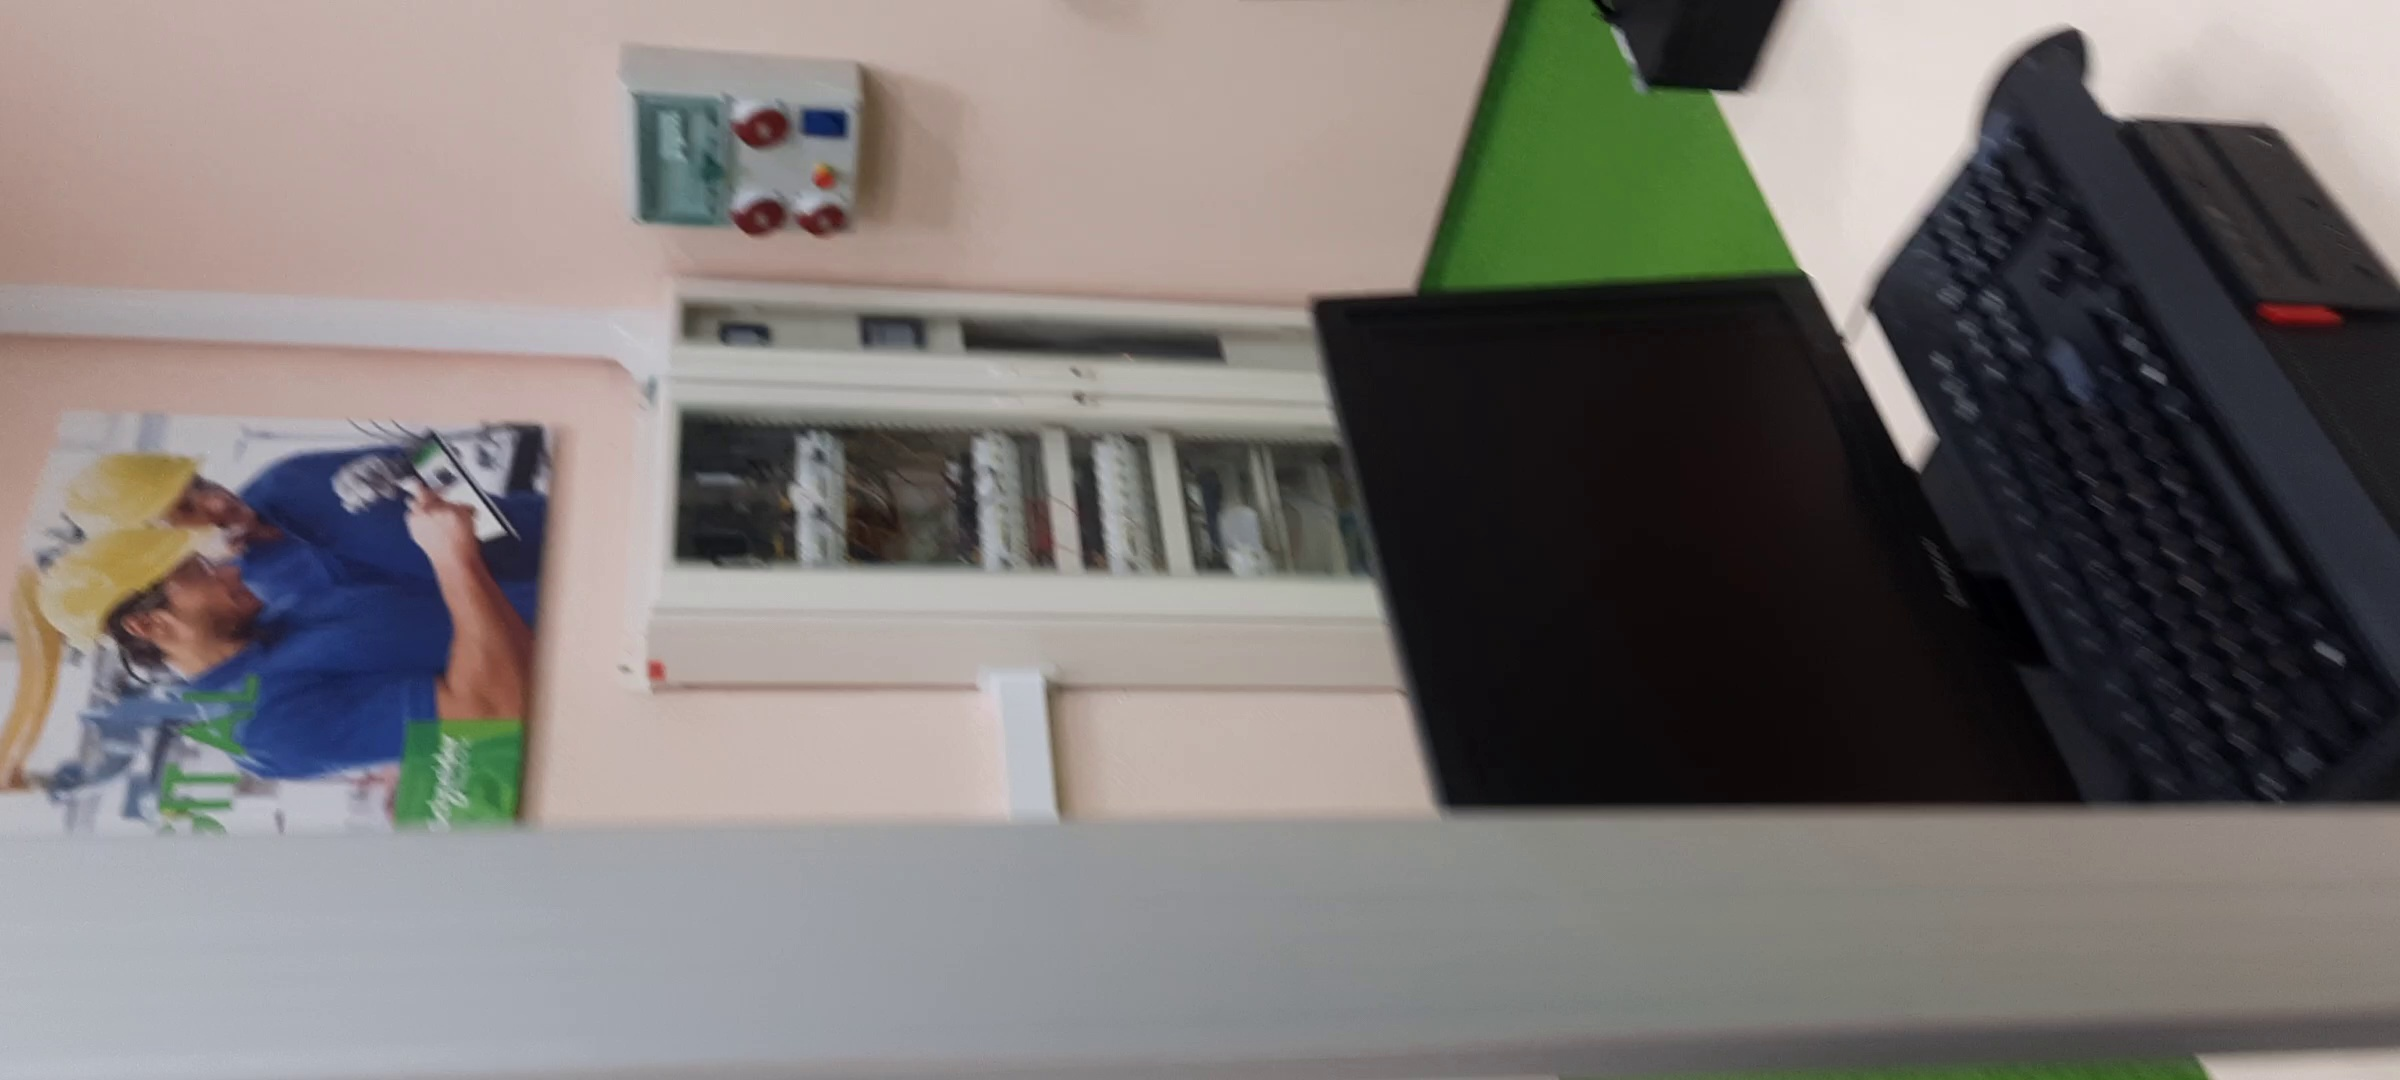stand1: (635, 288, 1405, 685)
